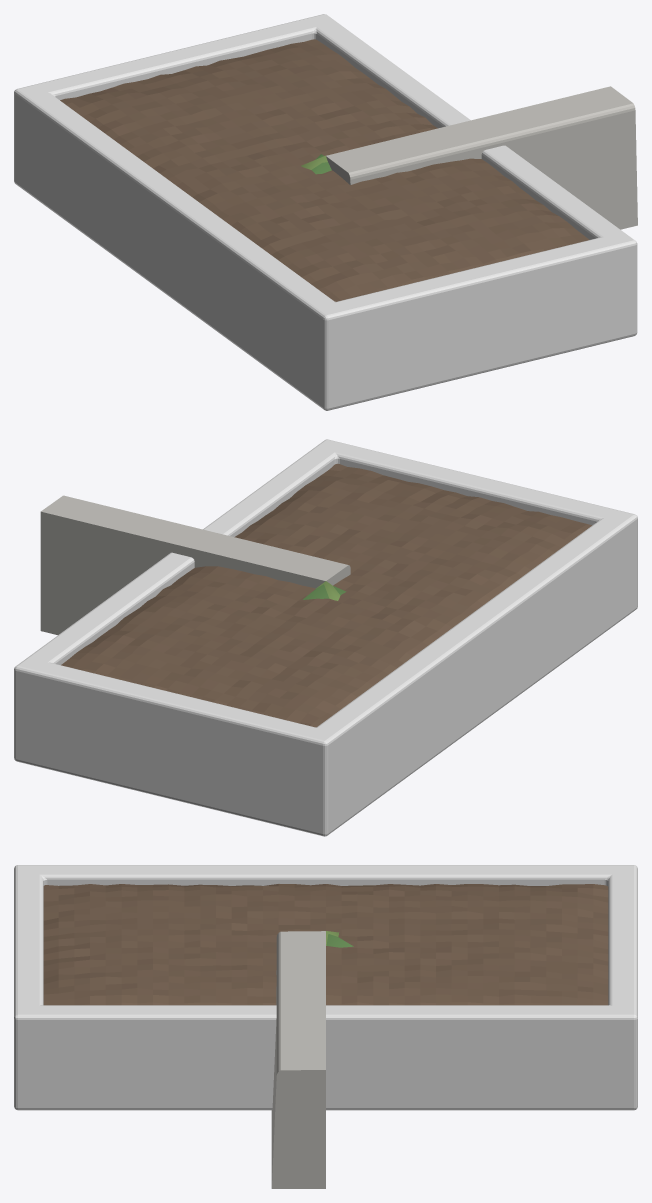
File: kit.gltf
3 renders of one model, top to bottom at view 1: azimuth 30°, elevation 25°; view 2: azimuth 150°, elevation 25°; view 3: azimuth 270°, elevation 25°, orthographic.
Parts seen in each view (by area): view 1: jardinera_borde, jardinera_tierra, bordillo; view 2: jardinera_borde, jardinera_tierra, bordillo; view 3: jardinera_borde, jardinera_tierra, bordillo.
Part boxes in pixels (x1=…): jardinera_borde: x1=14, y1=14, x2=637, y2=410; jardinera_tierra: x1=60, y1=39, x2=589, y2=301; bordillo: x1=326, y1=86, x2=637, y2=229; jardinera_borde: x1=14, y1=439, x2=637, y2=836; jardinera_tierra: x1=61, y1=463, x2=591, y2=727; bordillo: x1=40, y1=495, x2=350, y2=634; jardinera_borde: x1=14, y1=865, x2=637, y2=1110; jardinera_tierra: x1=43, y1=884, x2=608, y2=1005; bordillo: x1=271, y1=931, x2=325, y2=1188.
Bounding box in the file's own units: 1.55 × 0.4008 × 1.9.
